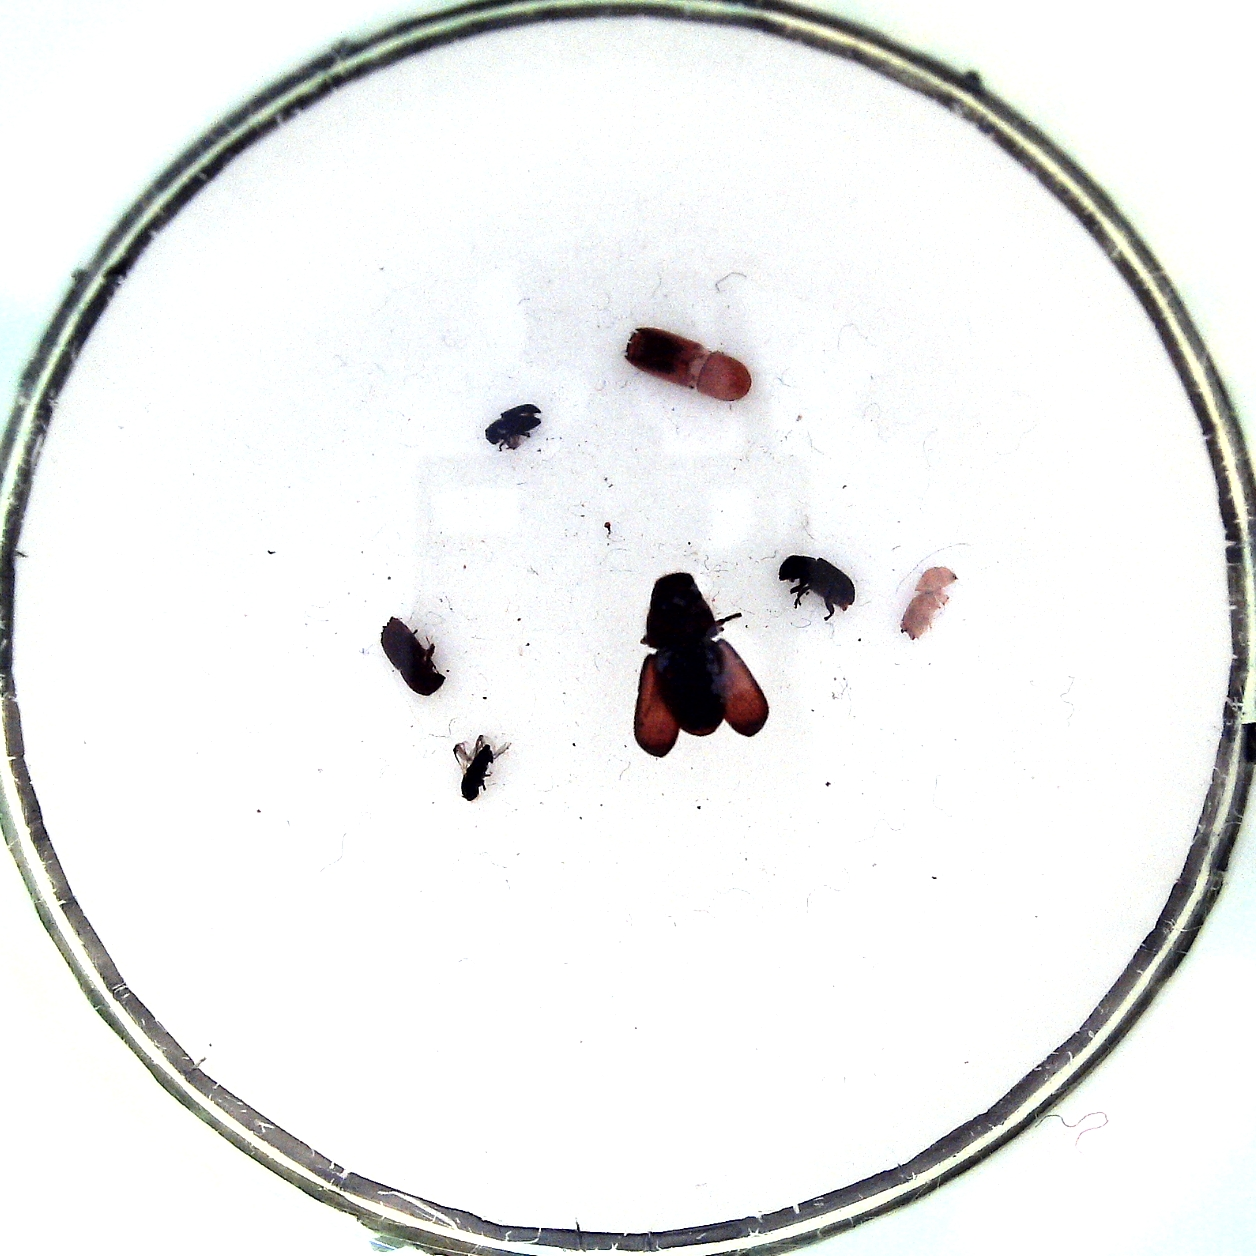Boerner: (625, 328, 751, 401)
Leconte: (641, 570, 727, 736)
acuminatus: (901, 566, 959, 642), (461, 744, 495, 801)
armandi: (778, 554, 855, 613)
coleoptera: (484, 403, 542, 446)
linnaeus: (380, 615, 445, 696)
